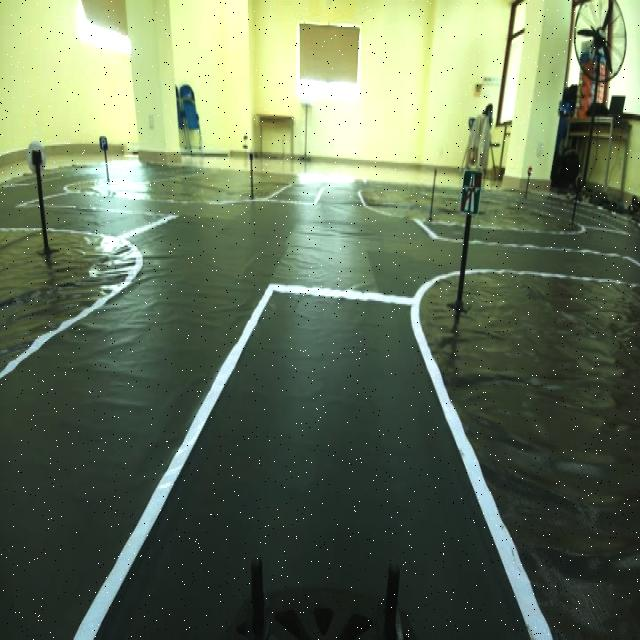highway_exit: (458, 166, 484, 222)
